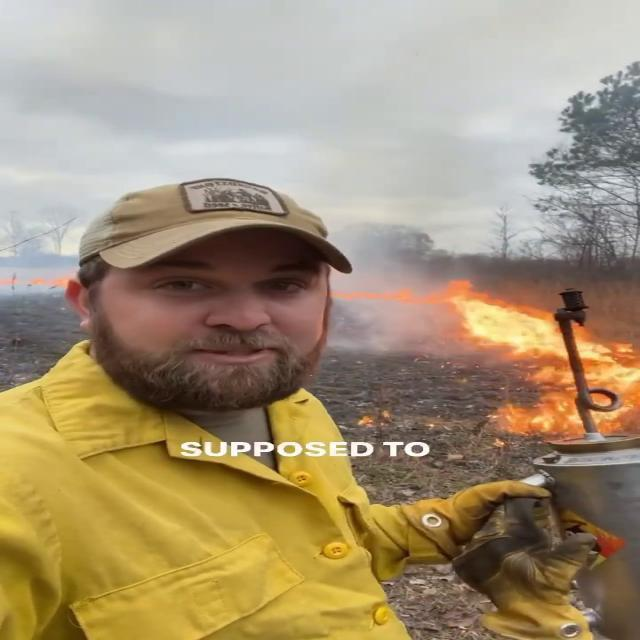Fire: (424, 281, 638, 437)
